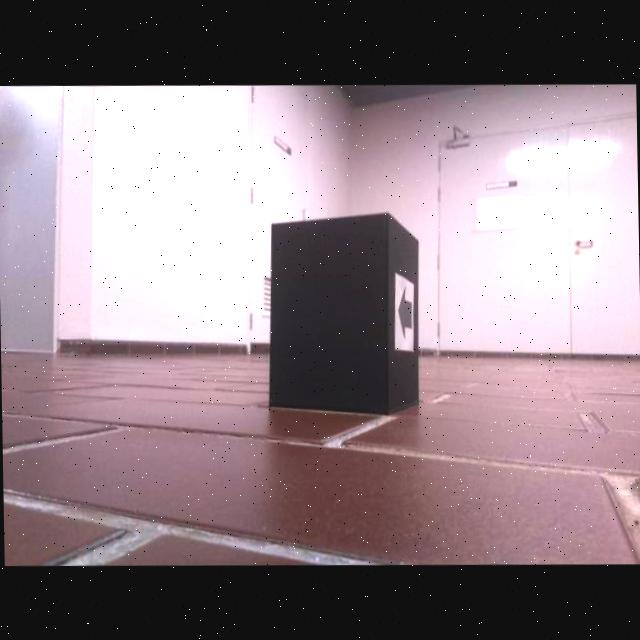LEFT: (397, 284, 412, 339)
